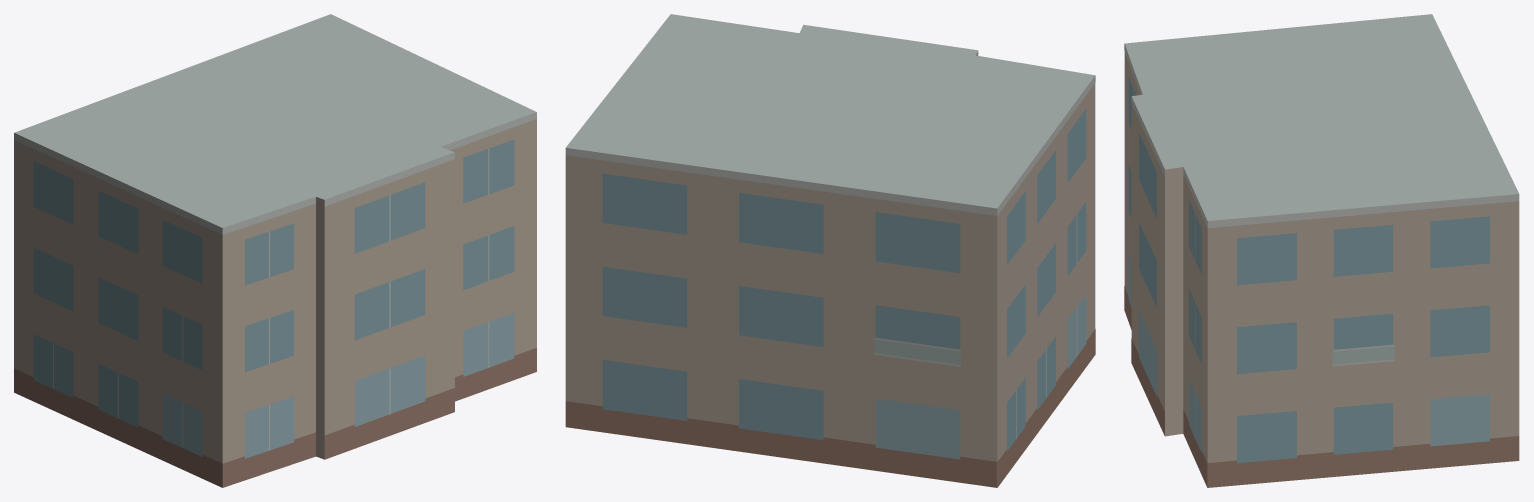
File: survey-upis-32707294.glb
3 views of the same model, side by side, from view 1: azimuth 30°, elevation 25°; view 2: azimuth 150°, elevation 25°; view 3: azimuth 270°, elevation 25° (orthographic). The views are drawn at different scales.
Parts seen in each view (by area): view 1: survey-upis-32707294.tmp; view 2: survey-upis-32707294.tmp; view 3: survey-upis-32707294.tmp.
Boxes of the visible parts, x1,y1,x2,y2 form: survey-upis-32707294.tmp: [14, 14, 536, 487]; survey-upis-32707294.tmp: [565, 14, 1095, 487]; survey-upis-32707294.tmp: [1124, 14, 1519, 487].
Size of the model in its own units: 15.24 by 9.15 by 12.29.
